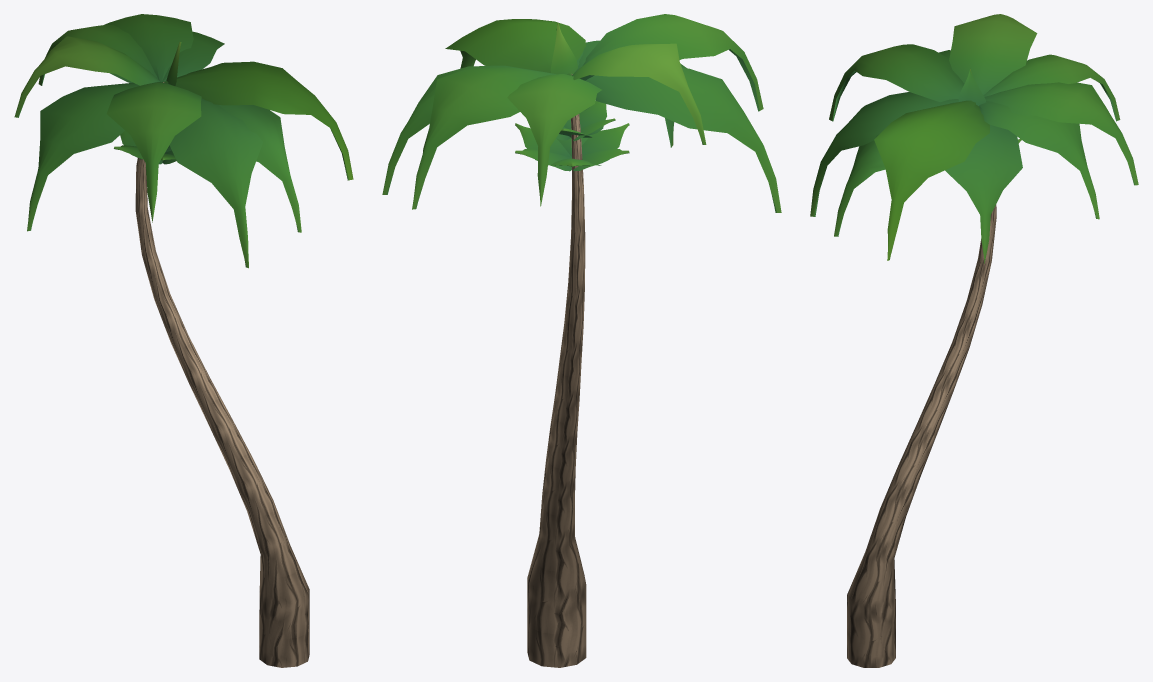
File: palm_v2.glb
3 views of the same model, side by side, from view 1: azimuth 30°, elevation 25°; view 2: azimuth 150°, elevation 25°; view 3: azimuth 270°, elevation 25° (orthographic). The views are drawn at different scales.
Parts seen in each view (by area): view 1: palm_v2_leaves_LOD0, palm_v2_trunk_LOD0; view 2: palm_v2_leaves_LOD0, palm_v2_trunk_LOD0; view 3: palm_v2_leaves_LOD0, palm_v2_trunk_LOD0.
Part boxes in pixels (x1,y1,x2,y2): palm_v2_leaves_LOD0: (14,14,353,268); palm_v2_trunk_LOD0: (135,82,309,667); palm_v2_leaves_LOD0: (382,14,781,212); palm_v2_trunk_LOD0: (527,74,586,667); palm_v2_leaves_LOD0: (810,14,1138,263); palm_v2_trunk_LOD0: (847,204,996,667).
Size of what is drawn, in the model's own units: 5.96 by 11.3 by 5.88.
Materials: 2 (1 with a texture image).
